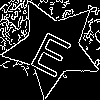E: (27, 22, 79, 79)
